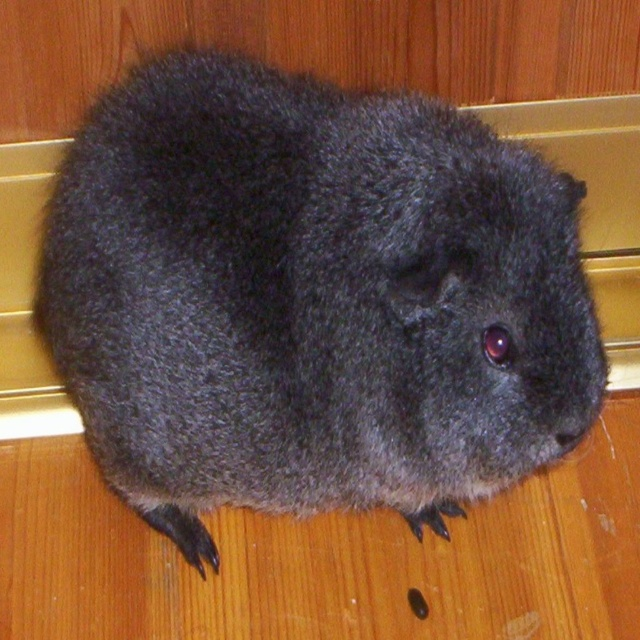Mouse: (36, 51, 620, 555)
